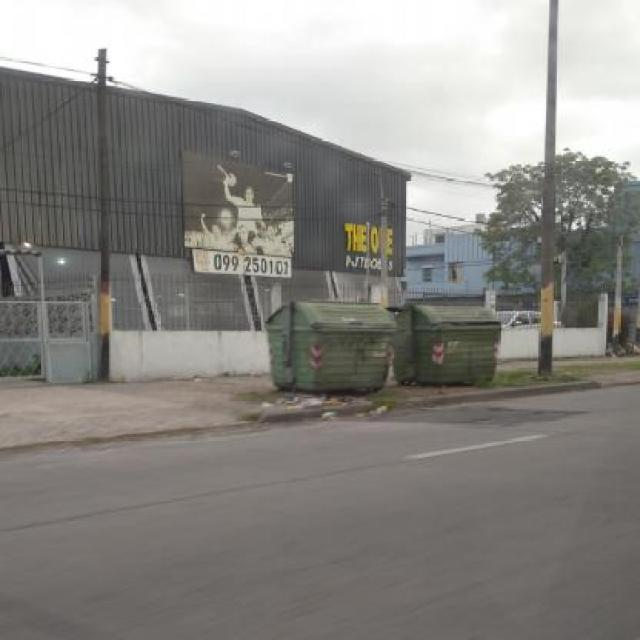garbage: (252, 386, 413, 444)
